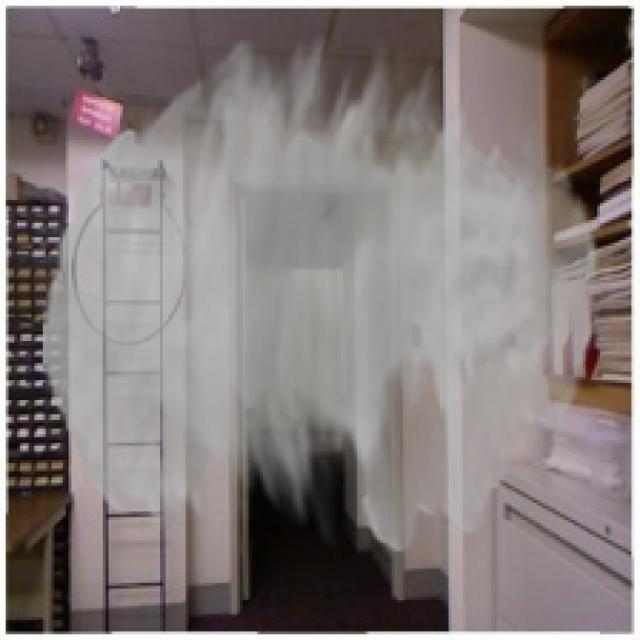Smoke: (43, 34, 600, 552)
